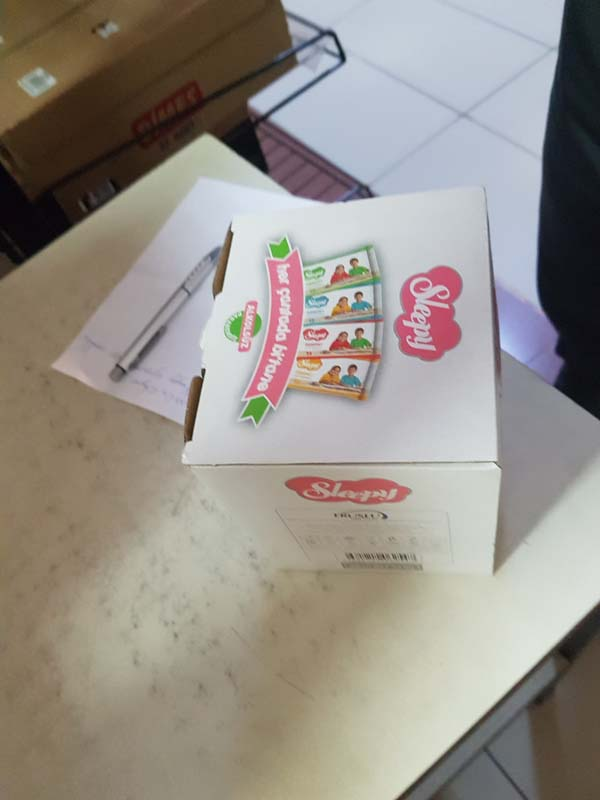sleepyogrencikoli: (179, 180, 509, 585)
